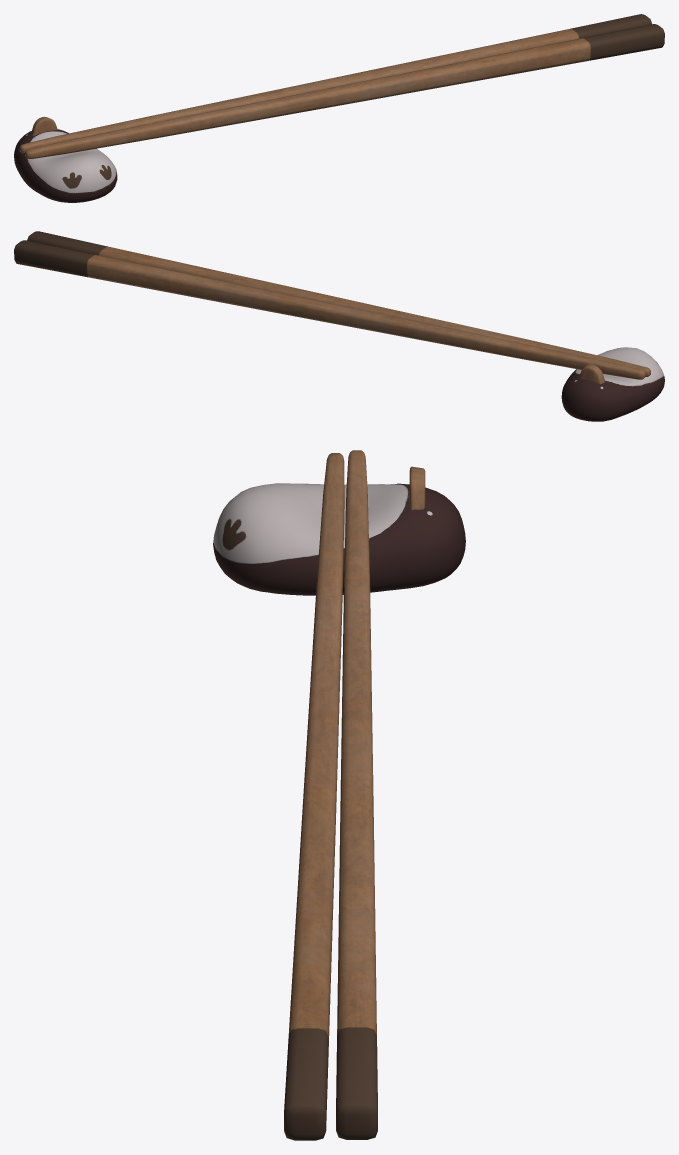
The picture shows the model from 3 angles, top to bottom: view 1: azimuth 30°, elevation 25°; view 2: azimuth 150°, elevation 25°; view 3: azimuth 270°, elevation 25°; orthographic projection. The views are drawn at different scales.
Parts seen in each view (by area): view 1: chopstick_chopsticks_0 (×2), chopstick_rest; view 2: chopstick_chopsticks_0 (×2), chopstick_rest; view 3: chopstick_chopsticks_0 (×2), chopstick_rest.
Boxes of the visible parts, box(x1,y1,x2,y2) form: chopstick_chopsticks_0 (×2): box(19, 14, 664, 158); chopstick_rest: box(14, 116, 117, 202); chopstick_chopsticks_0 (×2): box(14, 231, 650, 379); chopstick_rest: box(561, 347, 664, 421); chopstick_chopsticks_0 (×2): box(284, 450, 377, 1140); chopstick_rest: box(213, 466, 465, 595).
Size of the model in its own units: 0.2399 by 0.0184 by 0.0419.
1 material, 1 textured.
